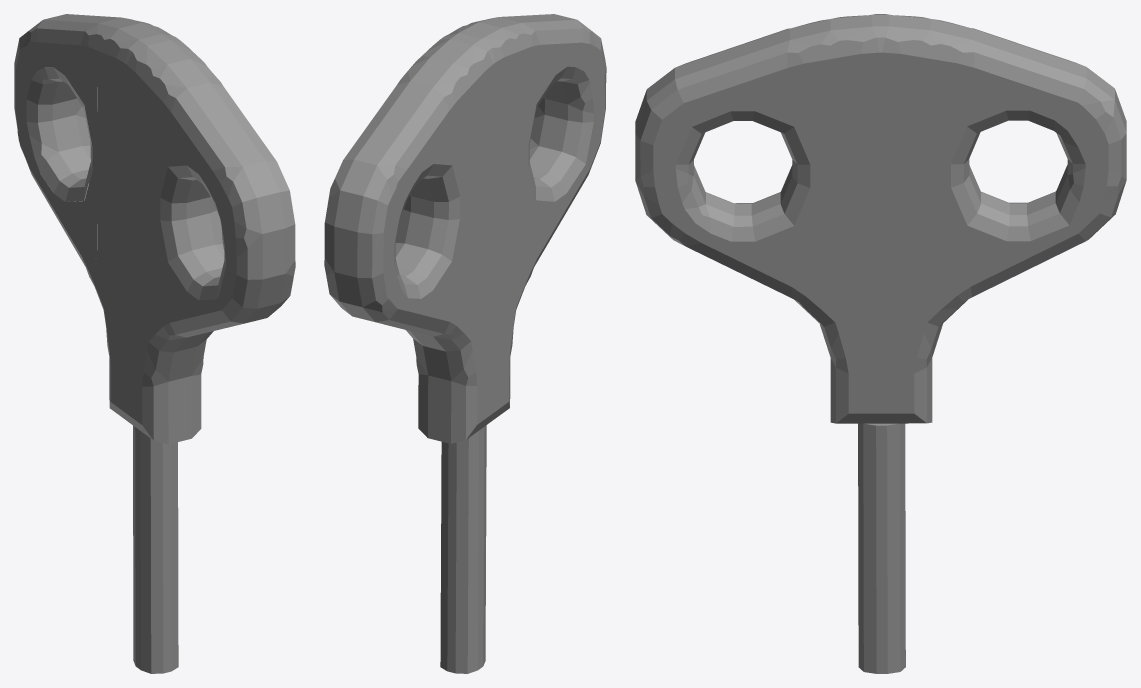
File: WindUpTool.fbx
The picture shows the model from 3 angles, left to right: view 1: azimuth 30°, elevation 25°; view 2: azimuth 150°, elevation 25°; view 3: azimuth 270°, elevation 25°; orthographic projection. The views are drawn at different scales.
Visible parts, largest first — view 1: Cube.023; view 2: Cube.023; view 3: Cube.023.
Part boxes in pixels (left/top/right/bottom): Cube.023: left=14, top=14, right=295, bottom=673; Cube.023: left=324, top=14, right=606, bottom=673; Cube.023: left=635, top=14, right=1126, bottom=673.
Size of the model in its own units: 18.15 by 184 by 127.
